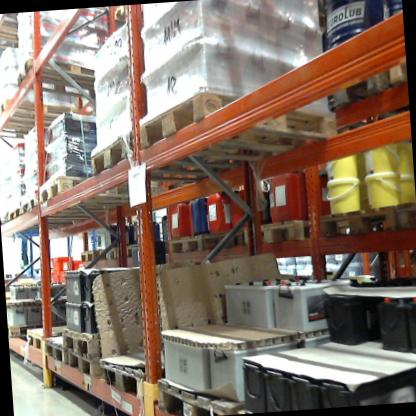pallet: (137, 76, 350, 172), (88, 125, 262, 185), (319, 41, 410, 124), (10, 49, 124, 111), (36, 164, 170, 208), (97, 352, 176, 407), (148, 374, 244, 416), (20, 182, 122, 221), (0, 89, 93, 131), (309, 200, 397, 242), (246, 211, 314, 257), (5, 198, 94, 230), (60, 323, 116, 373), (199, 213, 250, 256), (20, 321, 75, 357), (0, 12, 43, 52), (63, 348, 109, 384), (97, 236, 148, 264), (164, 225, 204, 259), (392, 196, 416, 236), (106, 4, 150, 25), (10, 314, 43, 339), (73, 242, 100, 272), (43, 330, 66, 365)
